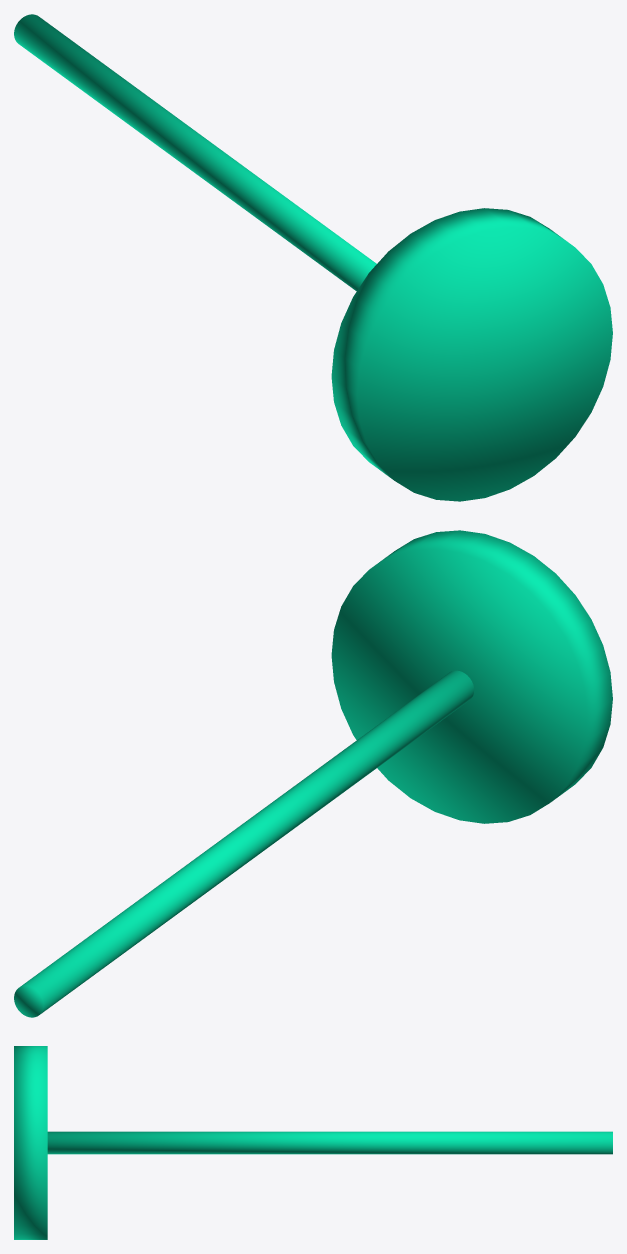
Rendered from lampOff.fbx.
3 views of the same model, one above another, from view 1: azimuth 30°, elevation 25°; view 2: azimuth 150°, elevation 25°; view 3: azimuth 270°, elevation 25° (orthographic). The views are drawn at different scales.
Visible parts, largest first — view 1: Cylinder.001; view 2: Cylinder.001; view 3: Cylinder.001.
Part boxes in pixels (x1,y1,x2,y2): Cylinder.001: (14,14,612,501); Cylinder.001: (14,530,612,1017); Cylinder.001: (14,1046,612,1239).
Bounding box in the file's own units: 0.02 × 0.02 × 0.0618.
